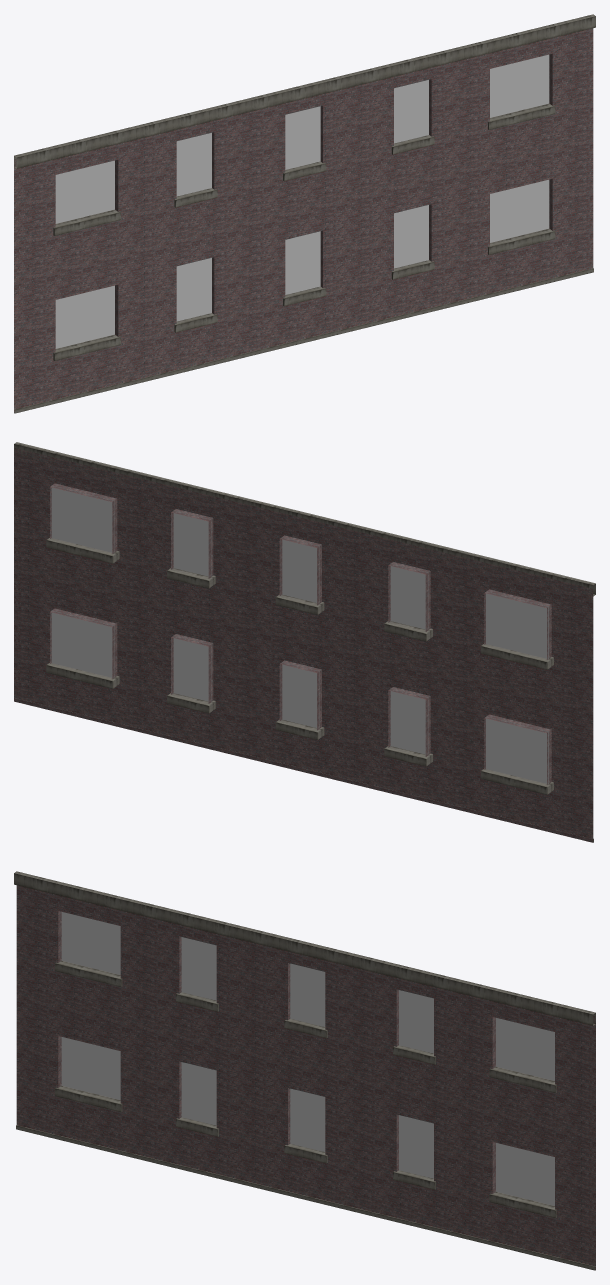
File: W_WindowSet_B_16x.FBX
3 views of the same model, one above another, from view 1: azimuth 30°, elevation 25°; view 2: azimuth 150°, elevation 25°; view 3: azimuth 330°, elevation 25° (orthographic).
Visible parts, largest first — view 1: W_WindowSet_B_16x; view 2: W_WindowSet_B_16x; view 3: W_WindowSet_B_16x.
Boxes of the visible parts, x1,y1,x2,y2 form: W_WindowSet_B_16x: (14,14,595,413); W_WindowSet_B_16x: (14,442,595,842); W_WindowSet_B_16x: (14,871,595,1270).
Bounding box in the file's own units: 1600 × 680 × 44.71.
